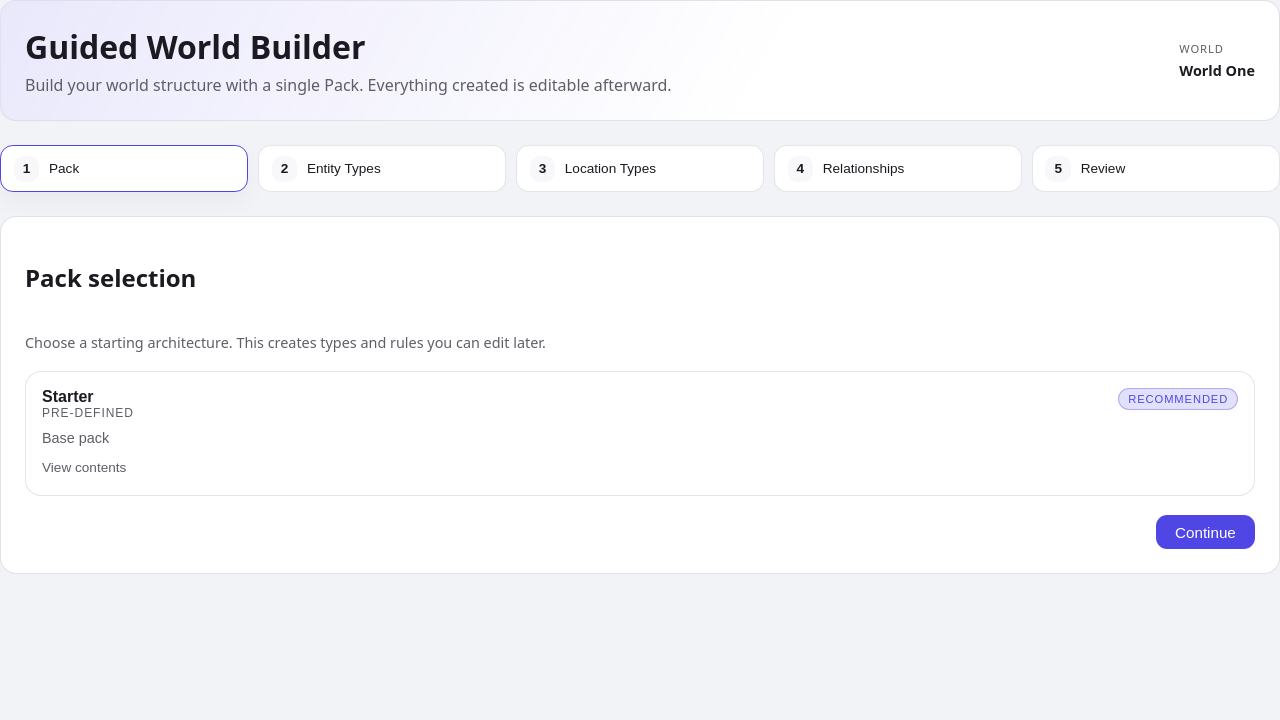
Scenario: WorldBuilder › opens the entity editor popout and hides field keys
Click the text "Starter".
click(68, 397)  # box [42,388,94,405]
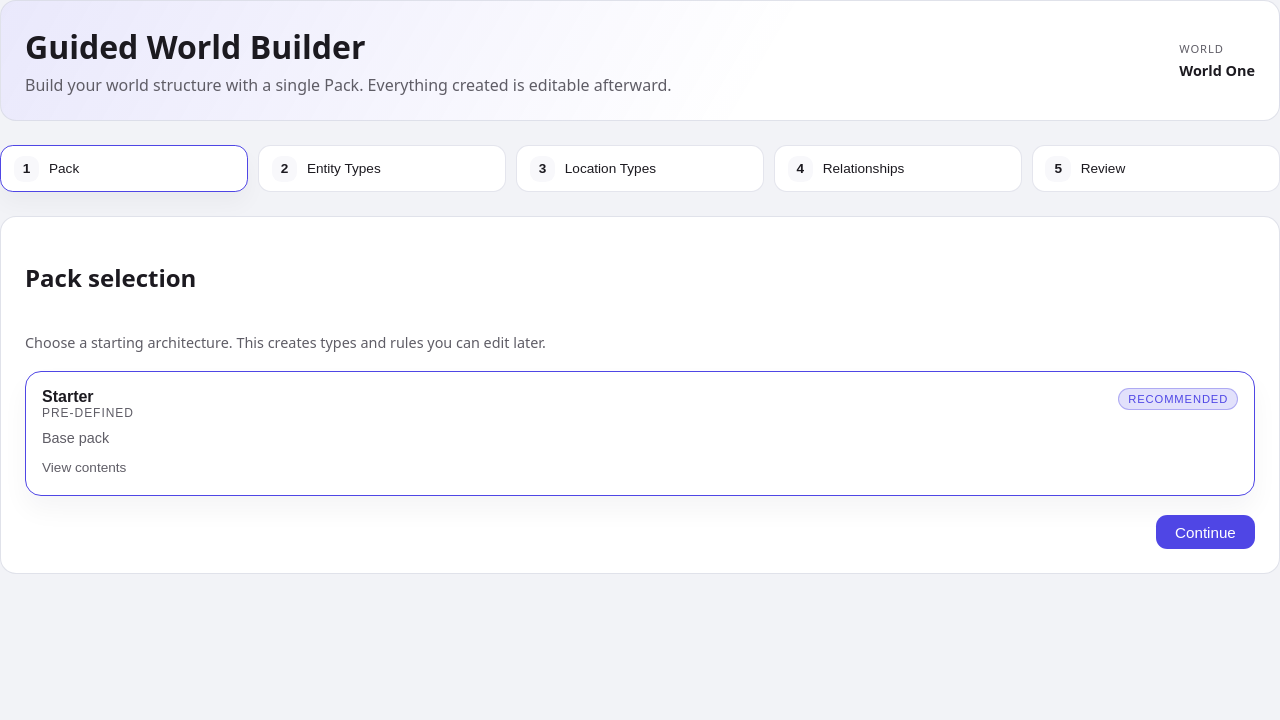
Click the button "Continue".
click(1205, 532)  # box [1156,515,1255,549]
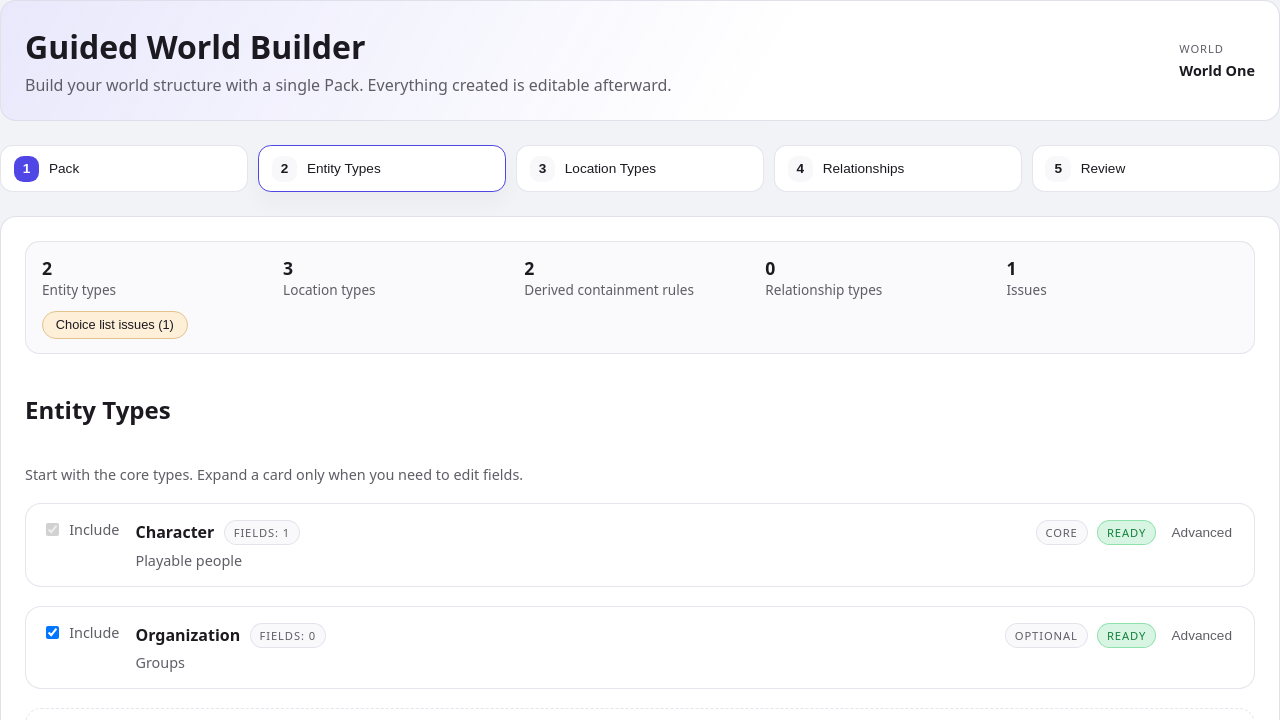
Now the heading "Entity Types" is shown, box [25,393,171,426]
Click the button "Character".
click(94, 529)  # box [25,503,1255,586]
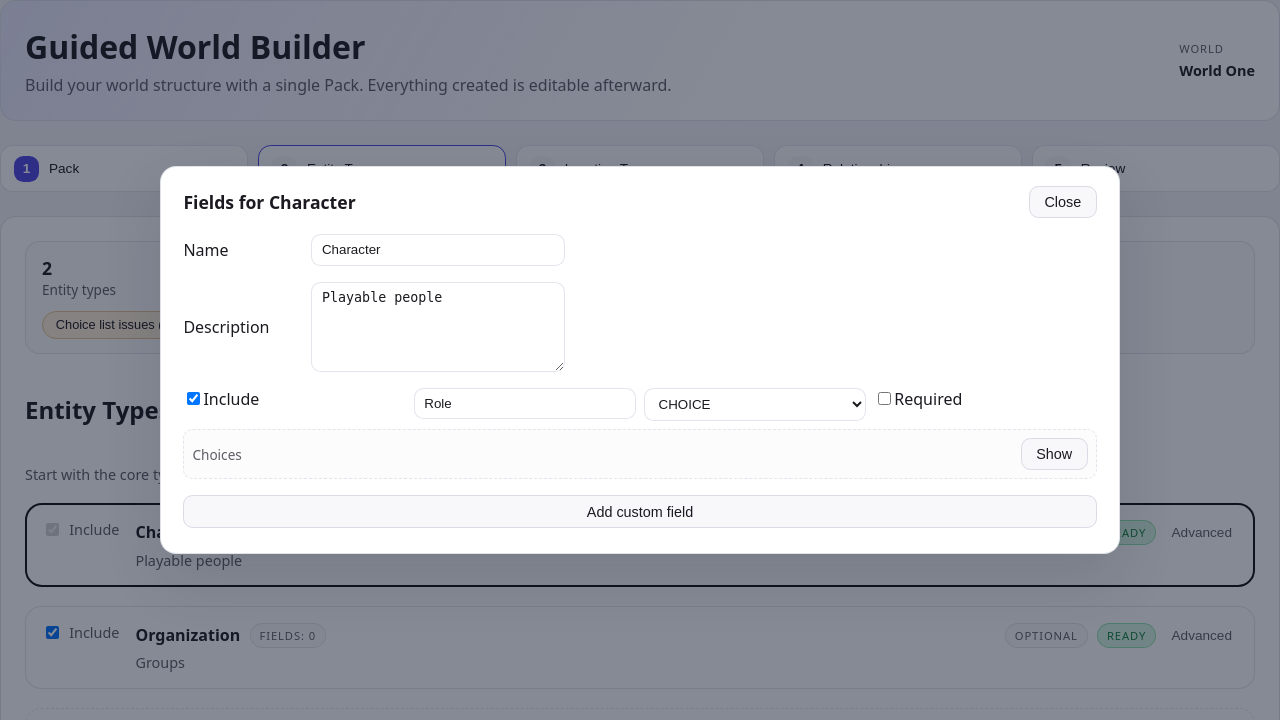
Now the heading "Fields for Character" is shown, box [183,190,356,214]
Now the text box labelled "Description" is shown, box [311,282,565,372]
